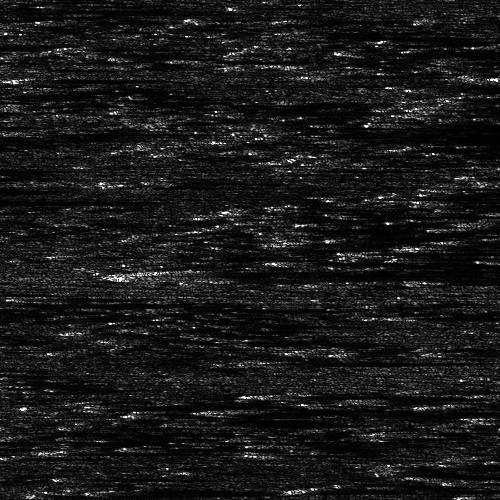object: (367, 98, 500, 115), (231, 386, 356, 397), (57, 484, 172, 495), (268, 481, 351, 494), (317, 246, 410, 257), (344, 119, 437, 126), (209, 357, 302, 364), (457, 410, 500, 425), (203, 405, 276, 412), (381, 311, 444, 318), (263, 258, 346, 263), (142, 271, 173, 278), (468, 256, 500, 261), (354, 46, 385, 49), (457, 495, 488, 498), (0, 75, 27, 78), (277, 448, 288, 453)
shadow: (310, 481, 500, 494), (158, 271, 500, 278), (240, 405, 499, 412), (294, 386, 451, 397), (114, 484, 263, 495), (0, 194, 137, 205), (364, 246, 500, 257), (256, 357, 411, 364), (439, 98, 500, 115), (305, 258, 500, 263), (0, 11, 92, 20), (391, 119, 500, 126), (0, 181, 56, 194), (413, 311, 500, 318), (0, 37, 41, 50), (0, 196, 54, 203), (6, 75, 105, 78), (283, 448, 336, 453), (370, 46, 425, 49), (473, 495, 500, 498), (305, 166, 359, 167)
